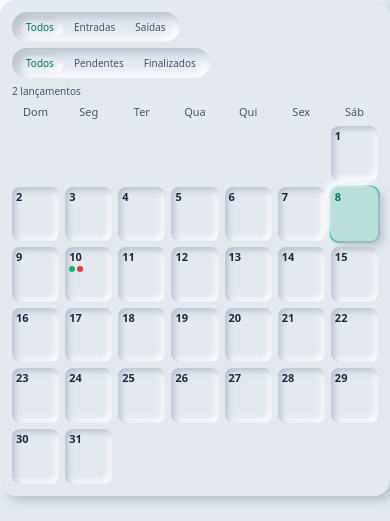
CalendarView › filtra por tipo: Saídas esconde entradas
Click the button "Saídas" at (150, 27), box [125,16,176,38]
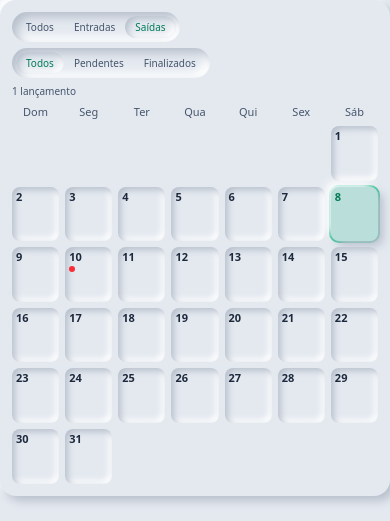
Check: the text "1 lançamento" is shown, box [12,84,76,98]
